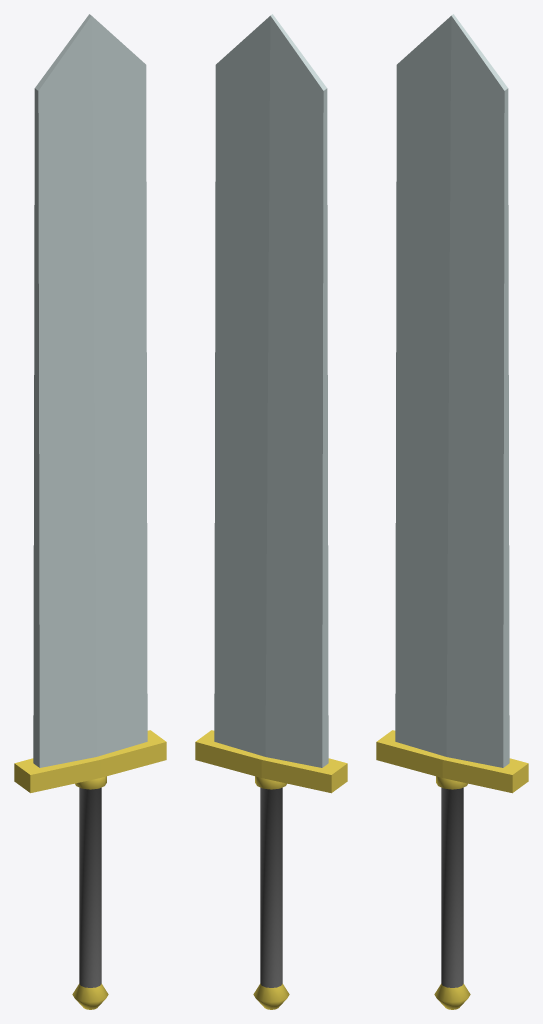
File: BigSword.fbx
3 renders of one model, left to right at view 1: azimuth 30°, elevation 25°; view 2: azimuth 150°, elevation 25°; view 3: azimuth 330°, elevation 25°, orthographic.
Parts seen in each view (by area): view 1: Cube.002; view 2: Cube.002; view 3: Cube.002.
Part boxes in pixels (x1=…): Cube.002: x1=14, y1=14, x2=166, y2=1009; Cube.002: x1=195, y1=14, x2=347, y2=1009; Cube.002: x1=376, y1=14, x2=528, y2=1009.
Size of the model in its own units: 24.87 by 173 by 6.27.
1 material, 1 textured.
